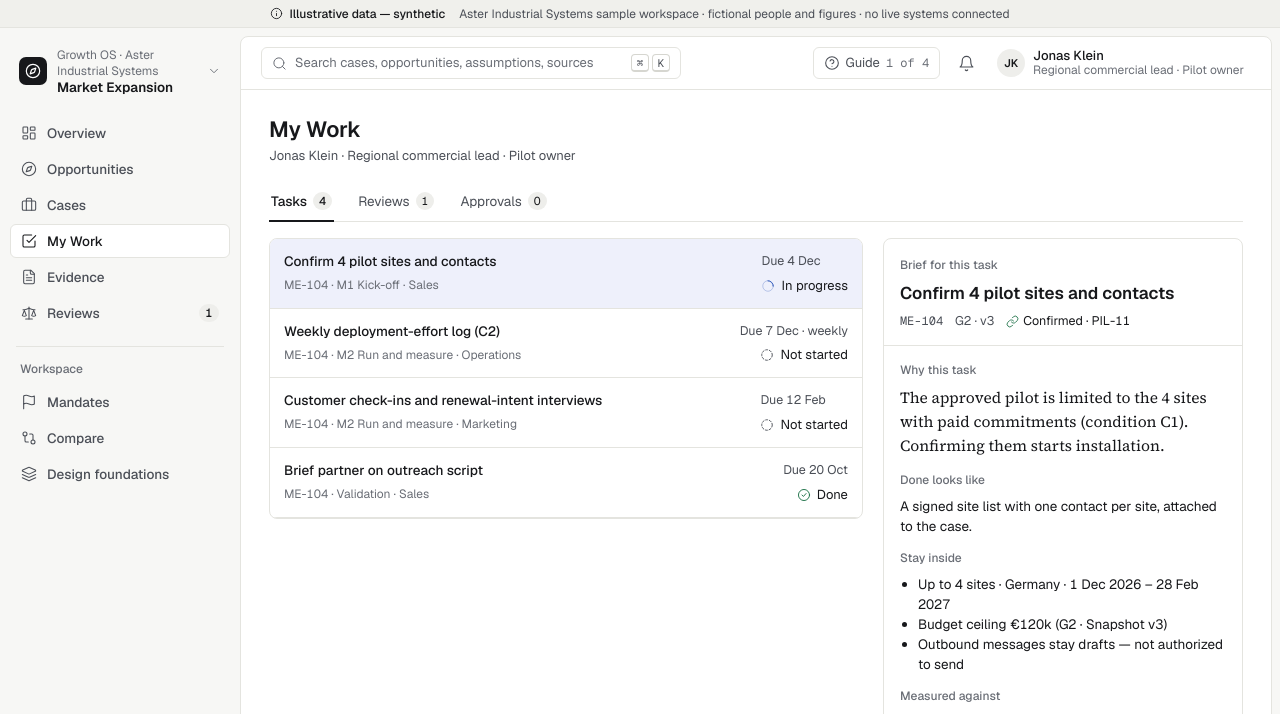
Scenario: My Work › shows the brief for the selected task and no approvals for a task owner
Expected: the text "Brief for this task" is shown, [900,257,998,273]
Expected: the text "limited to the 4 sites with paid commitments (condition C1)" is shown, [900,387,1207,456]
Click the tab "Approvals 0" at (504, 202), box [458,182,549,222]
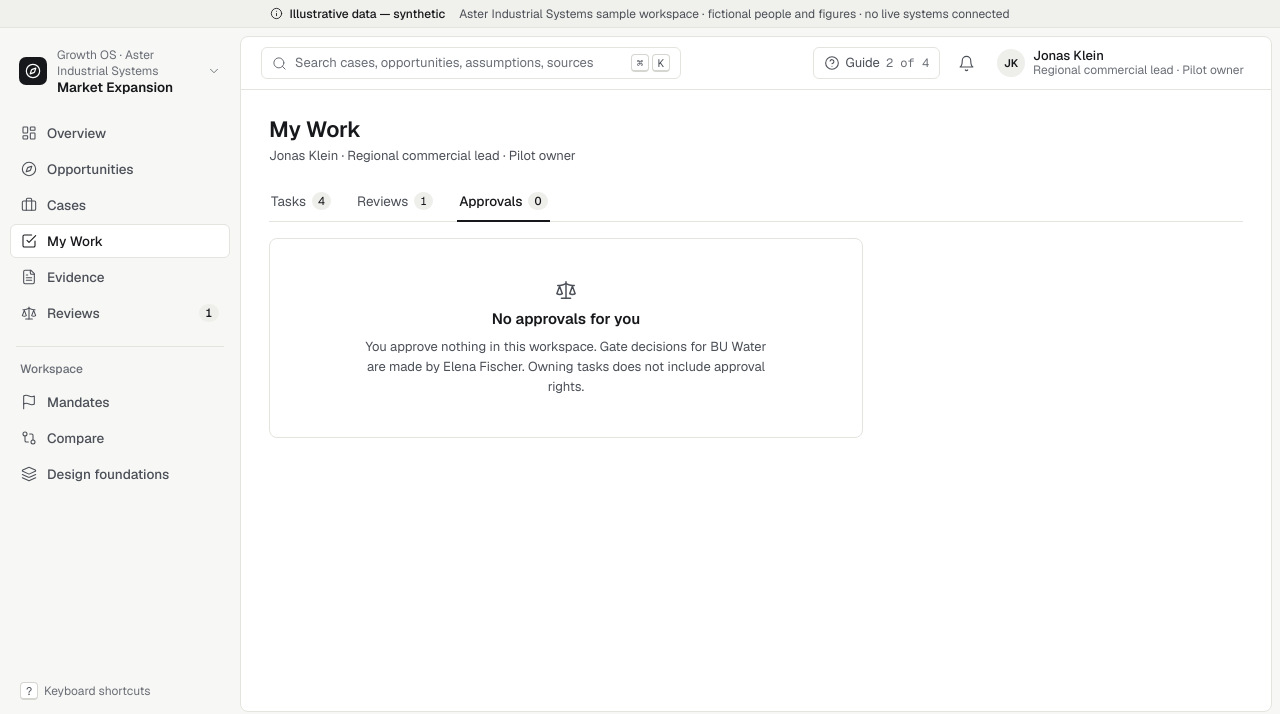
Expected: the heading "No approvals for you" is shown, [492,309,640,329]
Expected: the text "Owning tasks does not include approval rights." is shown, [365,338,766,395]
